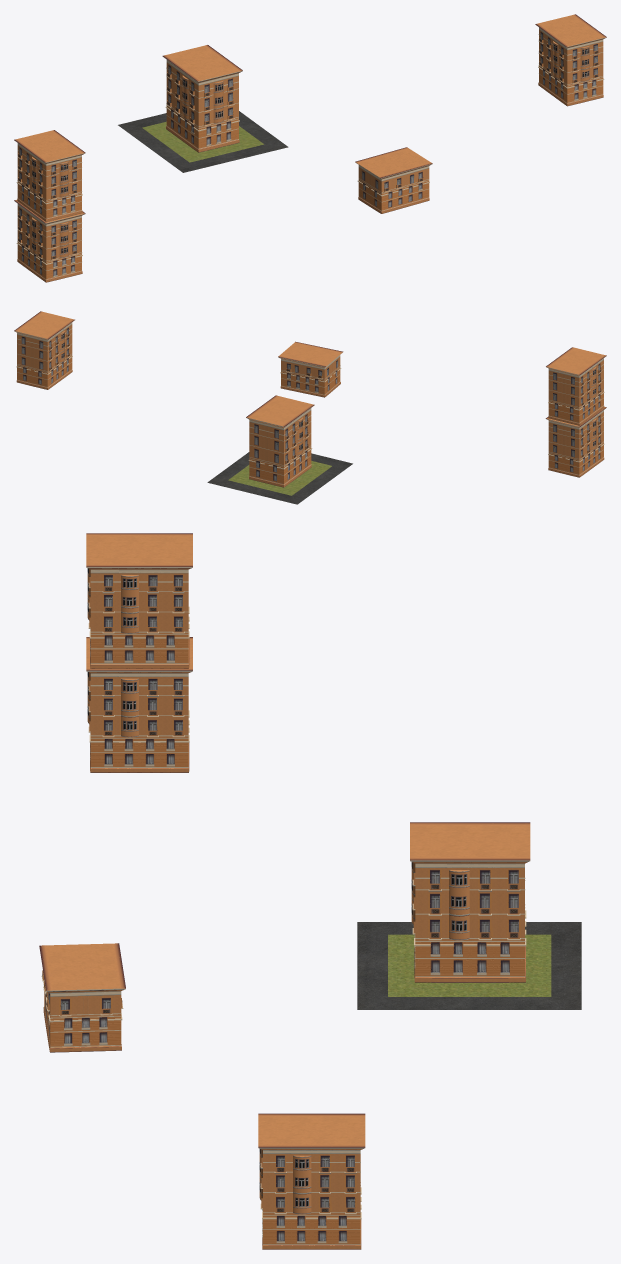
File: Monaco_track_building_city_02.dae
3 views of the same model, one above another, from view 1: azimuth 30°, elevation 25°; view 2: azimuth 150°, elevation 25°; view 3: azimuth 270°, elevation 25° (orthographic). The views are drawn at different scales.
Parts seen in each view (by area): view 1: building_city_02_02, building_city_02_03, building_city_02_04, building_city_02_01; view 2: building_city_02_02, building_city_02_03, building_city_02_04, building_city_02_01; view 3: building_city_02_02, building_city_02_03, building_city_02_04, building_city_02_01.
Boxes of the visible parts, left/top/right/bottom form: building_city_02_02: left=118, top=45, right=288, bottom=172; building_city_02_03: left=14, top=130, right=85, bottom=282; building_city_02_04: left=535, top=14, right=606, bottom=106; building_city_02_01: left=355, top=147, right=432, bottom=213; building_city_02_02: left=207, top=395, right=352, bottom=504; building_city_02_03: left=545, top=347, right=606, bottom=477; building_city_02_04: left=14, top=311, right=74, bottom=389; building_city_02_01: left=278, top=341, right=343, bottom=397; building_city_02_02: left=357, top=822, right=581, bottom=1009; building_city_02_03: left=86, top=533, right=192, bottom=772; building_city_02_04: left=258, top=1113, right=365, bottom=1249; building_city_02_01: left=39, top=943, right=125, bottom=1052.
Size of the model in its own units: 121 by 54.22 by 22.89.
3 materials, 3 textured.
